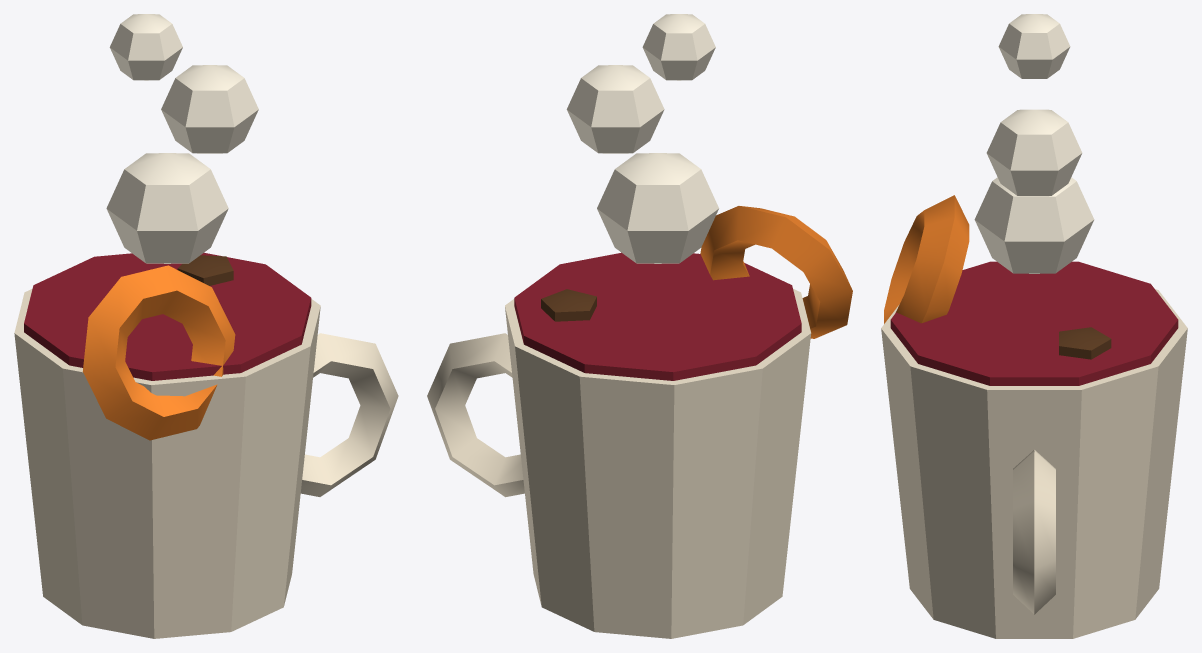
File: PR_Drink_SicakSarap.fbx
The picture shows the model from 3 angles, left to right: view 1: azimuth 30°, elevation 25°; view 2: azimuth 150°, elevation 25°; view 3: azimuth 270°, elevation 25°; orthographic projection. The views are drawn at different scales.
Parts seen in each view (by area): view 1: PR_Drink_SicakSarap; view 2: PR_Drink_SicakSarap; view 3: PR_Drink_SicakSarap.
Boxes of the visible parts, x1,y1,x2,y2 form: PR_Drink_SicakSarap: (14,14,398,638); PR_Drink_SicakSarap: (427,14,852,638); PR_Drink_SicakSarap: (881,14,1187,638).
Bounding box in the file's own units: 0.175 × 0.26 × 0.128.
